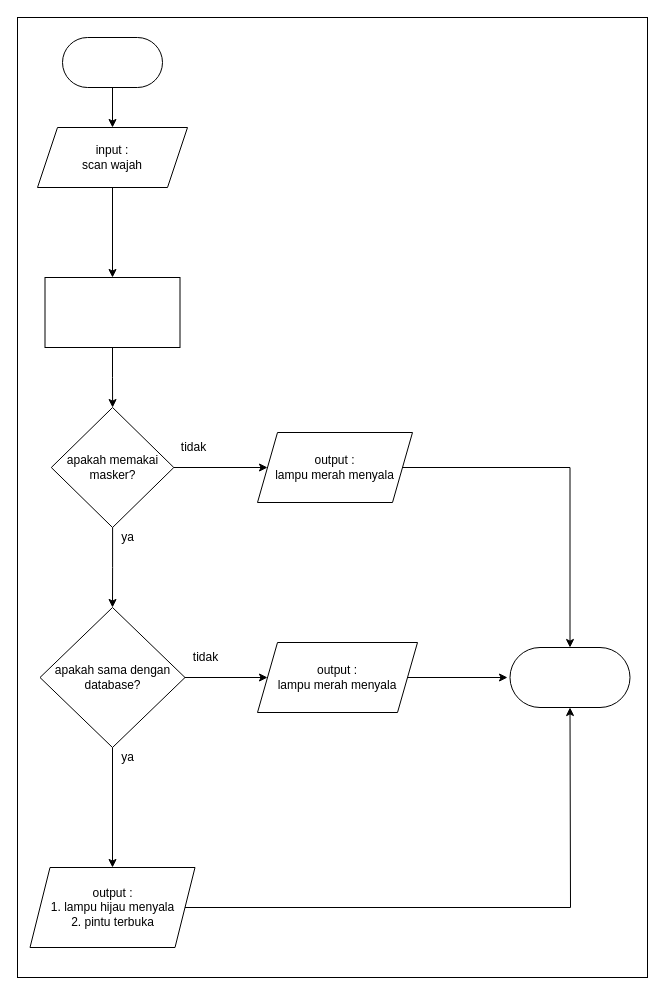
Some shapes in this 665 by 995 pixel diagram are drawn without their labels. The centre of each missing label's shape, as x and y in pixels:
"Mulai" belongs at [112,62].
"proses data wajah" belongs at [112,312].
"selesai" belongs at [569,677].
